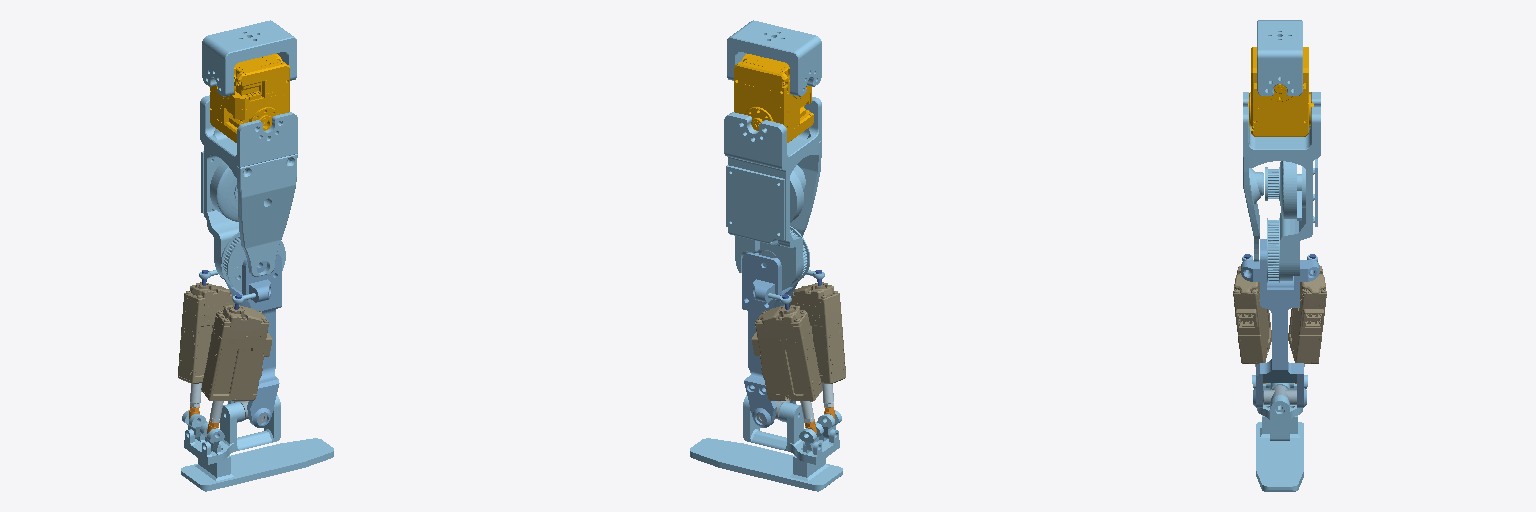
--- Facts derived from the render (not from the file) ---
3 views of the same robot in one strip: view 1: azimuth 30°, elevation 25°; view 2: azimuth 150°, elevation 25°; view 3: azimuth 270°, elevation 25° (orthographic).
Robot: left_3R+RH5_leg — 18 links, 17 joints (15 revolute, 2 prismatic); root link hip_yaw_link; default pose: all joints at 0.
Visible links, largest first — view 1: left_hip_pitch_link, ank_roll_link, 12lf_2, hip_roll_link, hip_yaw_link, left_calf_link, 12lf; view 2: left_hip_pitch_link, ank_roll_link, 12lf, hip_roll_link, hip_yaw_link, left_calf_link, 12lf_2; view 3: left_hip_pitch_link, left_calf_link, ank_roll_link, hip_yaw_link, hip_roll_link, 12lf_2, 12lf.
Boxes of the visible links, x1=… form: left_hip_pitch_link: x1=200, y1=95, x2=297, y2=291; ank_roll_link: x1=181, y1=395, x2=333, y2=491; 12lf_2: x1=201, y1=305, x2=272, y2=400; hip_roll_link: x1=210, y1=53, x2=289, y2=142; hip_yaw_link: x1=202, y1=20, x2=296, y2=96; left_calf_link: x1=220, y1=253, x2=281, y2=427; 12lf: x1=178, y1=282, x2=234, y2=383; left_hip_pitch_link: x1=724, y1=97, x2=821, y2=290; ank_roll_link: x1=690, y1=395, x2=842, y2=491; 12lf: x1=751, y1=305, x2=822, y2=401; hip_roll_link: x1=734, y1=53, x2=813, y2=142; hip_yaw_link: x1=727, y1=20, x2=821, y2=96; left_calf_link: x1=742, y1=252, x2=798, y2=427; 12lf_2: x1=789, y1=282, x2=845, y2=383; left_hip_pitch_link: x1=1243, y1=92, x2=1320, y2=282; left_calf_link: x1=1241, y1=239, x2=1319, y2=407; ank_roll_link: x1=1256, y1=383, x2=1303, y2=491; hip_yaw_link: x1=1257, y1=20, x2=1302, y2=95; hip_roll_link: x1=1248, y1=47, x2=1313, y2=136; 12lf_2: x1=1233, y1=266, x2=1271, y2=364; 12lf: x1=1288, y1=266, x2=1326, y2=363.
Bounding box of the posed robot: 0.095 × 0.0579 × 0.2855 m (x, y, z).
Meshes: 18 distinct files referenced, 18 mesh visuals loaded (18 binary STL).

robot.urdf — left_3R+RH5_leg:
<?xml version="1.0" ?><robot name="left_3R+RH5_leg">  
  <link name="hip_yaw_link">    
    <visual>      
      <origin xyz="0 0 0" rpy="0 -0 0"/>      
      <geometry>        
        <mesh filename="package:///meshes/left_hip_yaw_link_visual.stl"/>        
      </geometry>      
      <material name="hip_yaw_link_material">        
        <color rgba="0.61568627450980395466 0.81176470588235294379 0.9294117647058824927 1.0"/>        
      </material>      
    </visual>    
    <collision>      
      <origin xyz="0 0 0" rpy="0 -0 0"/>      
      <geometry>        
        <mesh filename="package:///meshes/left_hip_yaw_link_collision.stl"/>        
      </geometry>      
    </collision>    
    <inertial>      
      <origin xyz="-1.4892375467611331877e-20 3.966544230008890712e-19 -0.009839048905483014501" rpy="0 0 0"/>      
      <mass value="0.0090258837370979193293"/>      
      <inertia ixx="1.3230458239086465149e-06" ixy="-3.3592249637948231893e-24" ixz="-1.1251788840973426872e-52" iyy="3.8408510960331422723e-06" iyz="2.3044956050358332095e-34" izz="3.8721396285793907821e-06"/>      
    </inertial>    
  </link>  

  <link name="hip_roll_link">    
    <visual>      
      <origin xyz="0 0 0" rpy="0 -0 0"/>      
      <geometry>        
        <mesh filename="package:///meshes/left_hip_roll_link_visual.stl"/>        
      </geometry>      
      <material name="hip_roll_link_material">        
        <color rgba="0.95018735644455865064 0.70678927200428420807 0.061612079402596699185 1.0"/>        
      </material>      
    </visual>    
    <collision>      
      <origin xyz="0 0 0" rpy="0 -0 0"/>      
      <geometry>        
        <mesh filename="package:///meshes/left_hip_roll_link_collision.stl"/>        
      </geometry>      
    </collision>    
    <inertial>      
      <origin xyz="-0.012000151133961396363 -0.00049588831384953402804 -0.018504019244504728986" rpy="0 0 0"/>      
      <mass value="0.098012391483528679692"/>      
      <inertia ixx="2.0221748766306463246e-05" ixy="-4.1552068243118092086e-08" ixz="-4.1225592188160160633e-08" iyy="2.7358099958307189958e-05" iyz="-5.0935731752381037393e-07" izz="2.7358069524723229598e-05"/>      
    </inertial>    
  </link>  

  <link name="left_hip_pitch_link">    
    <visual>      
      <origin xyz="0 0 0" rpy="0 -0 0"/>      
      <geometry>        
        <mesh filename="package:///meshes/left_hip_pitch_link_visual.stl"/>        
      </geometry>      
      <material name="left_hip_pitch_link_material">        
        <color rgba="0.61653630588246988165 0.80730204117585691037 0.92176148235188926083 1.0"/>        
      </material>      
    </visual>    
    <collision>      
      <origin xyz="0 0 0" rpy="0 -0 0"/>      
      <geometry>        
        <mesh filename="package:///meshes/left_hip_pitch_link_collision.stl"/>        
      </geometry>      
    </collision>    
    <inertial>      
      <origin xyz="-0.00021632240618358220484 0.052986695633820024565 0.014788126099014515732" rpy="0 0 0"/>      
      <mass value="0.094084588454108858402"/>      
      <inertia ixx="6.3099190805816174842e-05" ixy="4.2254461504174176627e-07" ixz="-1.5223568275358377134e-07" iyy="2.1754782765193058833e-05" iyz="-1.4708367336520467186e-06" izz="6.2817482611037618514e-05"/>      
    </inertial>    
  </link>  

  <link name="left_calf_link">    
    <visual>      
      <origin xyz="0 0 0" rpy="0 -0 0"/>      
      <geometry>        
        <mesh filename="package:///meshes/left_calf_link_visual.stl"/>        
      </geometry>      
      <material name="left_calf_link_material">        
        <color rgba="0.55397243078540503447 0.73161358475427695769 0.87715705664081478066 1.0"/>        
      </material>      
    </visual>    
    <collision>      
      <origin xyz="0 0 0" rpy="0 -0 0"/>      
      <geometry>        
        <mesh filename="package:///meshes/left_calf_link_collision.stl"/>        
      </geometry>      
    </collision>    
    <inertial>      
      <origin xyz="-0.0039136163069529794969 -0.043640010796484503264 0.0081849279519870133531" rpy="0 0 0"/>      
      <mass value="0.016290616864051549878"/>      
      <inertia ixx="1.5543943584208743725e-05" ixy="-2.1605519114066121883e-07" ixz="7.0470291476150814932e-09" iyy="1.9364407917964761494e-06" iyz="1.9633933099789637219e-08" izz="1.4807197003527088815e-05"/>      
    </inertial>    
  </link>  

  <link name="ank_pitch_link">    
    <visual>      
      <origin xyz="0 0 0" rpy="0 -0 0"/>      
      <geometry>        
        <mesh filename="package:///meshes/left_ank_pitch_link_visual.stl"/>        
      </geometry>      
      <material name="ank_pitch_link_material">        
        <color rgba="0.63189161126160275916 0.72668668793540891482 0.78356373393969258601 1.0"/>        
      </material>      
    </visual>    
    <collision>      
      <origin xyz="0 0 0" rpy="0 -0 0"/>      
      <geometry>        
        <mesh filename="package:///meshes/left_ank_pitch_link_collision.stl"/>        
      </geometry>      
    </collision>    
    <inertial>      
      <origin xyz="4.026968507737488953e-08 0.00059528282566739039883 -0.014599922383890481456" rpy="0 0 0"/>      
      <mass value="0.0042238381753791605713"/>      
      <inertia ixx="4.3705254067385321152e-07" ixy="1.6834346764733790142e-13" ixz="1.6428822479797578164e-12" iyy="3.9782741364647126382e-07" iyz="2.0919252888484807591e-14" izz="8.8858574534548839566e-08"/>      
    </inertial>    
  </link>  

  <link name="ank_roll_link">    
    <visual>      
      <origin xyz="0 0 0" rpy="0 -0 0"/>      
      <geometry>        
        <mesh filename="package:///meshes/left_ank_roll_link_visual.stl"/>        
      </geometry>      
      <material name="ank_roll_link_material">        
        <color rgba="0.61568627450980395466 0.81176470588235305481 0.92941176470588227065 1.0"/>        
      </material>      
    </visual>    
    <collision>      
      <origin xyz="0 0 0" rpy="0 -0 0"/>      
      <geometry>        
        <mesh filename="package:///meshes/left_ank_roll_link_collision.stl"/>        
      </geometry>      
    </collision>    
    <inertial>      
      <origin xyz="-6.3661537441910641154e-10 0.027240102316353705797 -0.0056169852551464618043" rpy="0 0 0"/>      
      <mass value="0.013844478784760251913"/>      
      <inertia ixx="1.015090230923494099e-05" ixy="6.8603302692161456229e-14" ixz="-3.2605547317950546507e-13" iyy="8.66361166634314672e-06" iyz="-7.8151778926544985484e-07" izz="2.8991570356470427702e-06"/>      
    </inertial>    
  </link>  

  <link name="ank_rr_link">    
    <visual>      
      <origin xyz="0 0 0" rpy="0 -0 0"/>      
      <geometry>        
        <mesh filename="package:///meshes/left_ank_rr_link_visual.stl"/>        
      </geometry>      
      <material name="ank_rr_link_material">        
        <color rgba="0.61568627450980395466 0.81176470588235294379 0.92941176470588238168 1.0"/>        
      </material>      
    </visual>    
    <collision>      
      <origin xyz="0 0 0" rpy="0 -0 0"/>      
      <geometry>        
        <mesh filename="package:///meshes/left_ank_rr_link_collision.stl"/>        
      </geometry>      
    </collision>    
    <inertial>      
      <origin xyz="3.4593503690053688021e-05 -0.0062999445222071577544 2.2902669769463380408e-19" rpy="0 0 0"/>      
      <mass value="0.00044289790445047673732"/>      
      <inertia ixx="9.089475500483527331e-09" ixy="5.668999407703981849e-11" ixz="-1.0879024115036759212e-14" iyy="8.3785129146959905585e-09" iyz="1.6391214081100160018e-31" izz="1.3107013728801488166e-08"/>      
    </inertial>    
  </link>  

  <link name="12lf_rod_end">    
    <visual>      
      <origin xyz="0 0 0" rpy="0 -0 0"/>      
      <geometry>        
        <mesh filename="package:///meshes/left_12lf_rod_end_visual.stl"/>        
      </geometry>      
      <material name="12lf_rod_end_material">        
        <color rgba="0.92771758928836534075 0.61049283053223002415 0.2184765849058516729 1.0"/>        
      </material>      
    </visual>    
    <collision>      
      <origin xyz="0 0 0" rpy="0 -0 0"/>      
      <geometry>        
        <mesh filename="package:///meshes/left_12lf_rod_end_collision.stl"/>        
      </geometry>      
    </collision>    
    <inertial>      
      <origin xyz="-4.473520001561125718e-11 -0.0038422185938246067836 6.4384187209444402404e-06" rpy="0 0 0"/>      
      <mass value="0.00085420491177815905965"/>      
      <inertia ixx="1.1840985264406803937e-08" ixy="2.022597843744187292e-16" ixz="-9.2606419918934951166e-16" iyy="3.3549621576797603144e-09" iyz="7.4535631381817743296e-12" izz="1.2703522254420022938e-08"/>      
    </inertial>    
  </link>  

  <joint name="left_ank_R21" type="revolute">    
    <origin xyz="0 -0.010000000000000036637 -2.0816681711721685133e-17" rpy="-1.5707963267949025532 -1.4285697747629921839 1.5707963267949025532"/>    
    <parent link="ank_rr_link"/>    
    <child link="12lf_rod_end"/>    
    <axis xyz="0 0 1"/>    
    <limit effort="1" velocity="20" lower="-1.570796326794896558" upper="1.570796326794896558"/>    
    <joint_properties friction="0.0"/>    
  </joint>  

  <joint name="left_ank_R11" type="revolute">    
    <origin xyz="-0.0099999999999999915345 0.012499999999999872324 -0.033600000000000004863" rpy="1.6323812772036896109e-17 1.4002646486553138019e-17 -0.10116031275705798798"/>    
    <parent link="ank_roll_link"/>    
    <child link="ank_rr_link"/>    
    <axis xyz="0 0 1"/>    
    <limit effort="1" velocity="20" lower="-1.570796326794896558" upper="1.570796326794896558"/>    
    <joint_properties friction="0.0"/>    
  </joint>  

  <link name="ank_rr_link_2">    
    <visual>      
      <origin xyz="0 0 0" rpy="0 -0 0"/>      
      <geometry>        
        <mesh filename="package:///meshes/left_ank_rr_link_2_visual.stl"/>        
      </geometry>      
      <material name="ank_rr_link_2_material">        
        <color rgba="0.61568627450980395466 0.81176470588235294379 0.92941176470588238168 1.0"/>        
      </material>      
    </visual>    
    <collision>      
      <origin xyz="0 0 0" rpy="0 -0 0"/>      
      <geometry>        
        <mesh filename="package:///meshes/left_ank_rr_link_2_collision.stl"/>        
      </geometry>      
    </collision>    
    <inertial>      
      <origin xyz="3.4593503690053674468e-05 -0.0062999445222072123982 -6.7098672062125900958e-18" rpy="0 0 0"/>      
      <mass value="0.00044289790445047673732"/>      
      <inertia ixx="9.0894755004835306397e-09" ixy="5.6689994077040018823e-11" ixz="-1.0879024115036762368e-14" iyy="8.3785129146959872498e-09" iyz="-2.6982978837278030063e-32" izz="1.3107013728801488166e-08"/>      
    </inertial>    
  </link>  

  <link name="12lf_rod_end_2">    
    <visual>      
      <origin xyz="0 0 0" rpy="0 -0 0"/>      
      <geometry>        
        <mesh filename="package:///meshes/left_12lf_rod_end_2_visual.stl"/>        
      </geometry>      
      <material name="12lf_rod_end_2_material">        
        <color rgba="0.92771758928836534075 0.61049283053223002415 0.2184765849058516729 1.0"/>        
      </material>      
    </visual>    
    <collision>      
      <origin xyz="0 0 0" rpy="0 -0 0"/>      
      <geometry>        
        <mesh filename="package:///meshes/left_12lf_rod_end_2_collision.stl"/>        
      </geometry>      
    </collision>    
    <inertial>      
      <origin xyz="-4.4735189715912923357e-11 -0.0038422185938245820638 6.4384187209439091508e-06" rpy="0 0 0"/>      
      <mass value="0.00085420491177815905965"/>      
      <inertia ixx="1.1840985264406810555e-08" ixy="2.0225977934550601649e-16" ixz="-9.2606419851216231998e-16" iyy="3.354962157679735499e-09" iyz="7.4535631381822606213e-12" izz="1.2703522254420004741e-08"/>      
    </inertial>    
  </link>  

  <joint name="left_ank_R22" type="revolute">    
    <origin xyz="-6.9388939039072283776e-18 -0.010000000000000008882 0" rpy="1.570796326794896558 -1.4285463212677487199 -1.5707963267948970021"/>    
    <parent link="ank_rr_link_2"/>    
    <child link="12lf_rod_end_2"/>    
    <axis xyz="0 0 1"/>    
    <limit effort="1" velocity="20" lower="-1.570796326794896558" upper="1.570796326794896558"/>    
    <joint_properties friction="0.0"/>    
  </joint>  

  <joint name="left_ank_R12" type="revolute">    
    <origin xyz="0.0099999999999999984734 0.012499999999999761302 -0.033599999999999997924" rpy="3.1415926535897824579 9.4861357133311978266e-15 -3.0405529889788134312"/>    
    <parent link="ank_roll_link"/>    
    <child link="ank_rr_link_2"/>    
    <axis xyz="0 0 1"/>    
    <limit effort="1" velocity="20" lower="-1.570796326794896558" upper="1.570796326794896558"/>    
    <joint_properties friction="0.0"/>    
  </joint>  

  <joint name="left_ank_roll" type="revolute">    
    <origin xyz="2.2759572004815709079e-15 0.0015000000000041896053 -0.014599999999999611552" rpy="-1.570796326795051101 -1.5707963267944144992 0"/>    
    <parent link="ank_pitch_link"/>    
    <child link="ank_roll_link"/>    
    <axis xyz="0 0 1"/>    
    <limit effort="1" velocity="20" lower="-1.570796326794896558" upper="1.570796326794896558"/>    
    <joint_properties friction="0.0"/>    
  </joint>  

  <joint name="left_ank_pitch" type="revolute">    
    <origin xyz="9.1534583908775112557e-19 -0.10000000000000003331 -0.0061999999999999989148" rpy="3.1415926535897926719 -8.7927079361011792447e-15 -1.5707963267948961139"/>    
    <parent link="left_calf_link"/>    
    <child link="ank_pitch_link"/>    
    <axis xyz="0 0 1"/>    
    <limit effort="1" velocity="20" lower="-1.570796326794896558" upper="1.570796326794896558"/>    
    <joint_properties friction="0.0"/>    
  </joint>  

  <link name="ball_joint_container">    
    <visual>      
      <origin xyz="0 0 0" rpy="0 -0 0"/>      
      <geometry>        
        <mesh filename="package:///meshes/left_ball_joint_container_visual.stl"/>        
      </geometry>      
      <material name="ball_joint_container_material">        
        <color rgba="0.61568627450980395466 0.81176470588235294379 0.92941176470588238168 1.0"/>        
      </material>      
    </visual>    
    <collision>      
      <origin xyz="0 0 0" rpy="0 -0 0"/>      
      <geometry>        
        <mesh filename="package:///meshes/left_ball_joint_container_collision.stl"/>        
      </geometry>      
    </collision>    
    <inertial>      
      <origin xyz="4.7221442975709424979e-19 2.7634000224781997854e-17 -0.0097125341669083414126" rpy="0 0 0"/>      
      <mass value="4.803735642533054869e-05"/>      
      <inertia ixx="7.1865480628741666366e-10" ixy="-3.4743251124436435837e-27" ixz="3.7630329617305141944e-39" iyy="8.475420427718555978e-10" iyz="-3.491409188473297406e-39" izz="1.8625314111651911712e-10"/>      
    </inertial>    
  </link>  

  <link name="ball_joint_ball">    
    <visual>      
      <origin xyz="0 0 0" rpy="0 -0 0"/>      
      <geometry>        
        <mesh filename="package:///meshes/left_ball_joint_ball_visual.stl"/>        
      </geometry>      
      <material name="ball_joint_ball_material">        
        <color rgba="0.3291302810242056065 0.44310466418644928188 0.69204871161977121741 1.0"/>        
      </material>      
    </visual>    
    <collision>      
      <origin xyz="0 0 0" rpy="0 -0 0"/>      
      <geometry>        
        <mesh filename="package:///meshes/left_ball_joint_ball_collision.stl"/>        
      </geometry>      
    </collision>    
    <inertial>      
      <origin xyz="-2.3253468712152024354e-18 -0.0010308669810016202889 7.5370947834070964575e-18" rpy="0 0 0"/>      
      <mass value="4.4053796295264630609e-05"/>      
      <inertia ixx="3.128501134969269094e-10" ixy="2.3037156279423985182e-26" ixz="6.8350401001252389427e-26" iyy="6.2569568612796186738e-11" iyz="-1.2712568099819904986e-25" izz="3.1285321460377238159e-10"/>      
    </inertial>    
  </link>  

  <link name="12lf">    
    <visual>      
      <origin xyz="0 0 0" rpy="0 -0 0"/>      
      <geometry>        
        <mesh filename="package:///meshes/left_12lf_visual.stl"/>        
      </geometry>      
      <material name="12lf_material">        
        <color rgba="0.62004392100736027693 0.58836684613512635345 0.49897069021535678246 1.0"/>        
      </material>      
    </visual>    
    <collision>      
      <origin xyz="0 0 0" rpy="0 -0 0"/>      
      <geometry>        
        <mesh filename="package:///meshes/left_12lf_collision.stl"/>        
      </geometry>      
    </collision>    
    <inertial>      
      <origin xyz="0.0049084207243746619601 -0.00013802439943551156809 -0.02994700357716317124" rpy="0 0 0"/>      
      <mass value="0.044782197696050352054"/>      
      <inertia ixx="1.5260128421324704455e-05" ixy="2.295577368701645685e-08" ixz="-8.1364204004110954009e-08" iyy="1.8188469778966096836e-05" iyz="-5.5542240843093171087e-08" izz="5.1496273901764499242e-06"/>      
    </inertial>    
  </link>  

  <link name="12lf_rod">    
    <visual>      
      <origin xyz="0 0 0" rpy="0 -0 0"/>      
      <geometry>        
        <mesh filename="package:///meshes/left_12lf_rod_visual.stl"/>        
      </geometry>      
      <material name="12lf_rod_material">        
        <color rgba="0.80250260812861884396 0.89340612183512713163 0.94491811293548189088 1.0"/>        
      </material>      
    </visual>    
    <collision>      
      <origin xyz="0 0 0" rpy="0 -0 0"/>      
      <geometry>        
        <mesh filename="package:///meshes/left_12lf_rod_collision.stl"/>        
      </geometry>      
    </collision>    
    <inertial>      
      <origin xyz="-6.3222084044054274484e-07 4.6933255325336066144e-07 -0.012893387334327629026" rpy="0 0 0"/>      
      <mass value="0.0025088292483592140175"/>      
      <inertia ixx="2.6944521128627835531e-07" ixy="7.1389570161813106174e-15" ixz="1.3562243135674815447e-11" iyy="2.6944520001684380527e-07" iyz="-1.0089988427266287272e-11" izz="1.7809843599861032107e-08"/>      
    </inertial>    
  </link>  

  <joint name="left_ank_act1" type="prismatic">    
    <origin xyz="2.2722093543023347273e-06 9.5756735873919751612e-16 -0.072660031604096092517" rpy="-3.1415926535896594451 8.5062006308179150635e-14 -2.2021168238262847083"/>    
    <parent link="12lf"/>    
    <child link="12lf_rod"/>    
    <axis xyz="0 0 1"/>    
    <limit effort="1" velocity="20" lower="0" upper="0.040000000000000000833"/>    
    <joint_properties friction="0.0"/>    
  </joint>  

  <joint name="left_ank_B31" type="revolute">    
    <origin xyz="4.336808689942017736e-19 -0.0064387505004004641496 6.9388939039072283776e-18" rpy="-1.57079632679489678 0.16913440034102095177 4.5559338426713504067e-15"/>    
    <parent link="ball_joint_ball"/>    
    <child link="12lf"/>    
    <axis xyz="0 0 1"/>    
    <limit effort="1" velocity="20" lower="-0.785398163397448279" upper="0.785398163397448279"/>    
    <joint_properties friction="0.0"/>    
  </joint>  

  <joint name="left_ank_B21" type="revolute">    
    <origin xyz="0 2.7755575615628913511e-17 -0.011499999999999999806" rpy="1.570796326794896558 -1.4285697747625467624 1.5707963267948807928"/>    
    <parent link="ball_joint_container"/>    
    <child link="ball_joint_ball"/>    
    <axis xyz="0 0 1"/>    
    <limit effort="1" velocity="20" lower="-0.785398163397448279" upper="0.785398163397448279"/>    
    <joint_properties friction="0.0"/>    
  </joint>  

  <joint name="left_ank_B11" type="revolute">    
    <origin xyz="0.0079999999999999880235 -0.015000000000000041078 0.028300000000000005707" rpy="-1.570796326794896558 1.469636014037934757 1.5707963267948754638"/>    
    <parent link="left_calf_link"/>    
    <child link="ball_joint_container"/>    
    <axis xyz="0 0 1"/>    
    <limit effort="1" velocity="20" lower="-0.785398163397448279" upper="0.785398163397448279"/>    
    <joint_properties friction="0.0"/>    
  </joint>  

  <link name="ball_joint_container_2">    
    <visual>      
      <origin xyz="0 0 0" rpy="0 -0 0"/>      
      <geometry>        
        <mesh filename="package:///meshes/left_ball_joint_container_2_visual.stl"/>        
      </geometry>      
      <material name="ball_joint_container_2_material">        
        <color rgba="0.61568627450980395466 0.81176470588235294379 0.92941176470588238168 1.0"/>        
      </material>      
    </visual>    
    <collision>      
      <origin xyz="0 0 0" rpy="0 -0 0"/>      
      <geometry>        
        <mesh filename="package:///meshes/left_ball_joint_container_2_collision.stl"/>        
      </geometry>      
    </collision>    
    <inertial>      
      <origin xyz="4.7221442975709357571e-19 -1.2157539084691921943e-19 -0.0097125341669083431473" rpy="0 0 0"/>      
      <mass value="4.803735642533054869e-05"/>      
      <inertia ixx="7.1865480628741666366e-10" ixy="5.8900531446197729655e-29" ixz="8.3848741101523981788e-39" iyy="8.475420427718555978e-10" iyz="-8.9837792996627276308e-39" izz="1.8625314111651911712e-10"/>      
    </inertial>    
  </link>  

  <link name="ball_joint_ball_2">    
    <visual>      
      <origin xyz="0 0 0" rpy="0 -0 0"/>      
      <geometry>        
        <mesh filename="package:///meshes/left_ball_joint_ball_2_visual.stl"/>        
      </geometry>      
      <material name="ball_joint_ball_2_material">        
        <color rgba="0.3291302810242056065 0.44310466418644928188 0.69204871161977121741 1.0"/>        
      </material>      
    </visual>    
    <collision>      
      <origin xyz="0 0 0" rpy="0 -0 0"/>      
      <geometry>        
        <mesh filename="package:///meshes/left_ball_joint_ball_2_collision.stl"/>        
      </geometry>      
    </collision>    
    <inertial>      
      <origin xyz="6.6925217834688338703e-18 -0.001030866981001670379 1.5569977136113586989e-18" rpy="0 0 0"/>      
      <mass value="4.4053796295264630609e-05"/>      
      <inertia ixx="3.1285011349692577203e-10" ixy="-3.4626890209578548396e-25" ixz="3.7795285763919379621e-27" iyy="6.2569568612796910521e-11" iyz="-2.0455197868117900813e-25" izz="3.1285321460377165781e-10"/>      
    </inertial>    
  </link>  

  <link name="12lf_2">    
    <visual>      
      <origin xyz="0 0 0" rpy="0 -0 0"/>      
      <geometry>        
        <mesh filename="package:///meshes/left_12lf_2_visual.stl"/>        
      </geometry>      
      <material name="12lf_2_material">        
        <color rgba="0.62004392100736005489 0.58836684613512635345 0.49897069021535678246 1.0"/>        
      </material>      
    </visual>    
    <collision>      
      <origin xyz="0 0 0" rpy="0 -0 0"/>      
      <geometry>        
        <mesh filename="package:///meshes/left_12lf_2_collision.stl"/>        
      </geometry>      
    </collision>    
    <inertial>      
      <origin xyz="0.0049084207243678913343 -0.00013802439943754352559 -0.0299470035771621651" rpy="0 0 0"/>      
      <mass value="0.044782197696050352054"/>      
      <inertia ixx="1.5260128421324108144e-05" ixy="2.2955773686901508523e-08" ixz="-8.1364204006931719307e-08" iyy="1.8188469778966906599e-05" iyz="-5.5542240844159843648e-08" izz="5.149627390177911056e-06"/>      
    </inertial>    
  </link>  

  <link name="12lf_rod_2">    
    <visual>      
      <origin xyz="0 0 0" rpy="0 -0 0"/>      
      <geometry>        
        <mesh filename="package:///meshes/left_12lf_rod_2_visual.stl"/>        
      </geometry>      
      <material name="12lf_rod_2_material">        
        <color rgba="0.80250260812861884396 0.89340612183512713163 0.94491811293548189088 1.0"/>        
      </material>      
    </visual>    
    <collision>      
      <origin xyz="0 0 0" rpy="0 -0 0"/>      
      <geometry>        
        <mesh filename="package:///meshes/left_12lf_rod_2_collision.stl"/>        
      </geometry>      
    </collision>    
    <inertial>      
      <origin xyz="-6.3222083682058968486e-07 4.6933255272327976681e-07 -0.012893387334328714963" rpy="0 0 0"/>      
      <mass value="0.0025088292483592140175"/>      
      <inertia ixx="2.6944521128621816303e-07" ixy="7.1389570398540213743e-15" ixz="1.3562243029603674816e-11" iyy="2.6944520001678361299e-07" iyz="-1.008998841178227723e-11" izz="1.7809843599861002329e-08"/>      
    </inertial>    
  </link>  

  <joint name="left_ank_act2" type="prismatic">    
    <origin xyz="2.2722093491519407271e-06 -6.5988881026157741871e-15 -0.072660030478819720434" rpy="-3.1415926535895000171 5.9263713871214940499e-14 -2.2021168238262815997"/>    
    <parent link="12lf_2"/>    
    <child link="12lf_rod_2"/>    
    <axis xyz="0 0 1"/>    
    <limit effort="1" velocity="20" lower="0" upper="0.040000000000000000833"/>    
    <joint_properties friction="0.0"/>    
  </joint>  

  <joint name="left_ank_B32" type="revolute">    
    <origin xyz="1.4311468676808658529e-17 -0.0064387505004005751719 6.9388939039072283776e-18" rpy="-1.5707963267948972241 -0.17993145005787733459 6.7429791500468328215e-16"/>    
    <parent link="ball_joint_ball_2"/>    
    <child link="12lf_2"/>    
    <axis xyz="0 0 1"/>    
    <limit effort="1" velocity="20" lower="-0.785398163397448279" upper="0.785398163397448279"/>    
    <joint_properties friction="0.0"/>    
  </joint>  

  <joint name="left_ank_B22" type="revolute">    
    <origin xyz="-3.4694469519536141888e-17 -2.7755575615628913511e-16 -0.01149999999999988011" rpy="1.570796326794896558 -1.4285463212680655776 -1.5707963267948985564"/>    
    <parent link="ball_joint_container_2"/>    
    <child link="ball_joint_ball_2"/>    
    <axis xyz="0 0 1"/>    
    <limit effort="1" velocity="20" lower="-0.785398163397448279" upper="0.785398163397448279"/>    
    <joint_properties friction="0.0"/>    
  </joint>  

  <joint name="left_ank_B12" type="revolute">    
    <origin xyz="0.0080000000000001268013 -0.014999999999999791278 -0.011499999999999987663" rpy="-1.570796326794896558 -1.4697566621822597543 1.5707963267949038855"/>    
    <parent link="left_calf_link"/>    
    <child link="ball_joint_container_2"/>    
    <axis xyz="0 0 1"/>    
    <limit effort="1" velocity="20" lower="-0.785398163397448279" upper="0.785398163397448279"/>    
    <joint_properties friction="0.0"/>    
  </joint>  

  <joint name="left_knee" type="revolute">    
    <origin xyz="-6.5356617016366259295e-15 0.095999999999999696687 0.027400000000000260952" rpy="-3.1415926535897842342 1.6653345304510526278e-16 2.2176671495670943584e-16"/>    
    <parent link="left_hip_pitch_link"/>    
    <child link="left_calf_link"/>    
    <axis xyz="0 0 1"/>    
    <limit effort="1" velocity="20" lower="-1.570796326794896558" upper="2.2689280275926284602"/>    
    <joint_properties friction="0.0"/>    
  </joint>  

  <joint name="left_hip_pitch" type="revolute">    
    <origin xyz="-0.024000000716153851998 -0.019000000152441028078 -0.019000000152448098811" rpy="-1.570796326794478226 1.5707963267948015229 0"/>    
    <parent link="hip_roll_link"/>    
    <child link="left_hip_pitch_link"/>    
    <axis xyz="0 0 1"/>    
    <limit effort="1" velocity="20" lower="-1.570796326794896558" upper="1.570796326794896558"/>    
    <joint_properties friction="0.0"/>    
  </joint>  

  <joint name="left_hip_roll" type="revolute">    
    <origin xyz="0.019000000000000284023 -8.3919669538584410836e-16 -0.026000000000000463712" rpy="-3.1415926535897922278 -1.5707963267945732611 0"/>    
    <parent link="hip_yaw_link"/>    
    <child link="hip_roll_link"/>    
    <axis xyz="0 0 1"/>    
    <limit effort="1" velocity="20" lower="-1.570796326794896558" upper="1.570796326794896558"/>    
    <joint_properties friction="0.0"/>    
  </joint>  


</robot>
